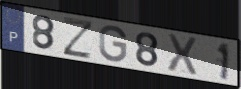1: (215, 42, 232, 83)
8: (30, 14, 56, 51), (135, 31, 161, 67)
G: (98, 24, 129, 64)
X: (166, 32, 199, 77)
Z: (61, 15, 95, 61)
